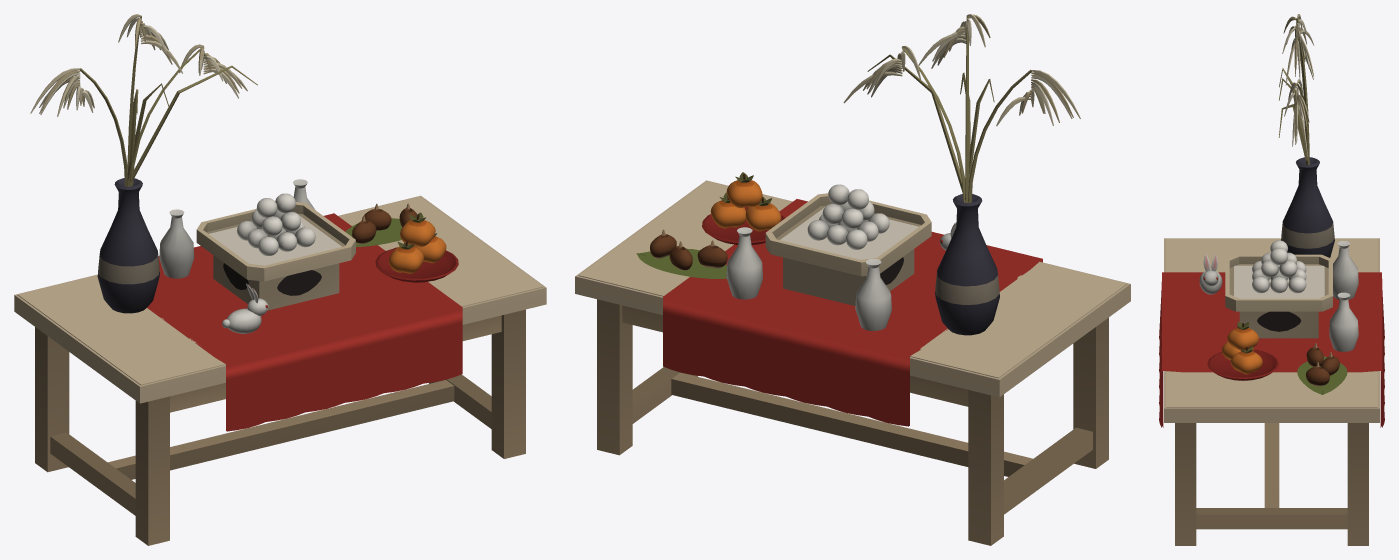
File: tsukimi_table.glb
The picture shows the model from 3 angles, left to right: view 1: azimuth 30°, elevation 25°; view 2: azimuth 150°, elevation 25°; view 3: azimuth 270°, elevation 25°; orthographic projection. The views are drawn at different scales.
Parts seen in each view (by area): view 1: table, table_cloth, dango, susuki_1, susuki_2, susuki_3, kaki_3, kaki_1; view 2: table, table_cloth, dango, susuki_2, susuki_1, susuki_3, kaki_3, kaki_1, kaki_2; view 3: table, table_cloth, dango, susuki_2, susuki_3, kaki_3, kaki_2, susuki_1, chataigne_3, chataigne_1.
Boxes of the visible parts, left/top/right/bottom form: table: left=14, top=178, right=546, bottom=545; table_cloth: left=147, top=213, right=462, bottom=431; dango: left=237, top=193, right=315, bottom=255; susuki_1: left=30, top=68, right=169, bottom=186; susuki_2: left=118, top=14, right=257, bottom=186; susuki_3: left=130, top=44, right=247, bottom=186; kaki_3: left=400, top=212, right=435, bottom=246; kaki_1: left=389, top=241, right=423, bottom=273; table: left=575, top=180, right=1130, bottom=545; table_cloth: left=636, top=199, right=1042, bottom=426; dango: left=807, top=184, right=889, bottom=249; susuki_2: left=867, top=14, right=990, bottom=202; susuki_1: left=960, top=69, right=1080, bottom=202; susuki_3: left=843, top=45, right=994, bottom=202; kaki_3: left=726, top=172, right=762, bottom=208; kaki_1: left=745, top=196, right=781, bottom=231; kaki_2: left=710, top=192, right=745, bottom=228; table: left=1164, top=157, right=1379, bottom=545; table_cloth: left=1159, top=265, right=1384, bottom=427; dango: left=1252, top=240, right=1306, bottom=293; susuki_2: left=1278, top=14, right=1314, bottom=164; susuki_3: left=1279, top=68, right=1309, bottom=164; kaki_3: left=1227, top=321, right=1258, bottom=350; kaki_2: left=1231, top=346, right=1262, bottom=374; susuki_1: left=1279, top=18, right=1314, bottom=140; chataigne_3: left=1306, top=362, right=1329, bottom=386; chataigne_1: left=1306, top=343, right=1323, bottom=366.
Size of what is drawn, in the model's own units: 1.21 by 1.22 by 0.628.
